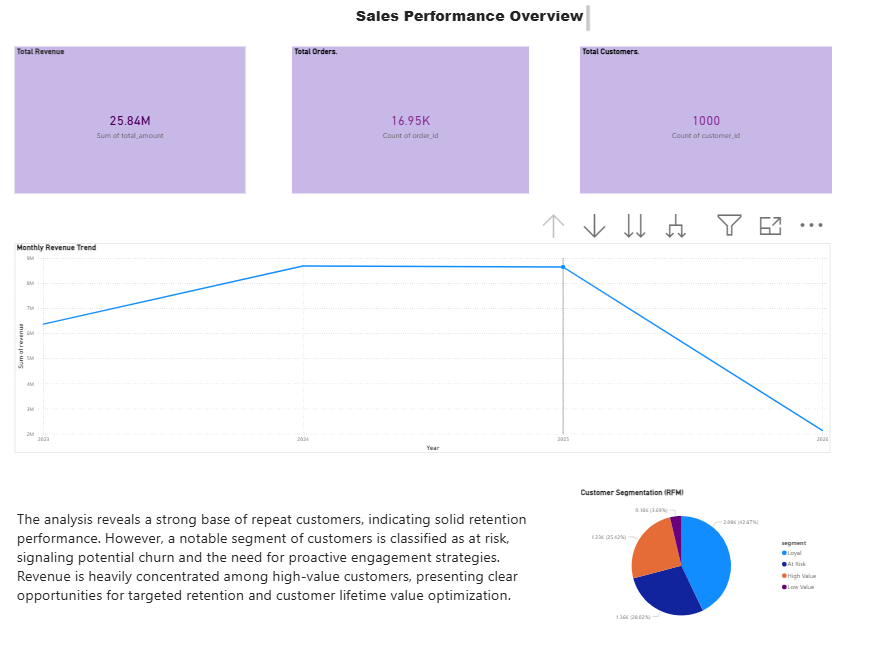

What the dashboard file says about the page in this screenshot:
{"tool":"powerbi","page":{"name":"Sales Overview","canvas":[2000,1500],"ordinal":0},"visuals":[{"type":"card","title":"Total Revenue","fields":{"Values":["Sum(orders_clean.total_amount)"]},"box":[35,103.3,513.3,326.7],"z":0},{"type":"lineChart","title":"Monthly Revenue Trend","fields":{"Category":["monthly_revenue.month.Variation.Date Hierarchy.Year","monthly_revenue.month.Variation.Date Hierarchy.Quarter","monthly_revenue.month.Variation.Date Hierarchy.Month","monthly_revenue.month.Variation.Date Hierarchy.Day"],"Y":["Sum(monthly_revenue.revenue)"]},"box":[36.7,540,1813.3,466.7],"z":1000},{"type":"pieChart","title":"Customer Segmentation (RFM)","fields":{"Category":["rfm_segments.segment"],"Y":["CountNonNull(rfm_segments.customer_id)"]},"box":[1290,1082.5,542.5,327.5],"z":2000},{"type":"card","title":"Total Orders.","fields":{"Values":["CountNonNull(orders_clean.order_id)"]},"box":[651.7,103.3,526.7,326.7],"z":3000},{"type":"card","title":"Total Customers.","fields":{"Values":["Count(customers_clean.customer_id)"]},"box":[1291.7,103.3,560,326.7],"z":4000},{"type":"textbox","box":[36.7,1123.3,1190,246.7],"z":5000},{"type":"textbox","box":[790,6.7,530,70],"z":5001}]}

Visuals, with their boxes on the page's 2000x1500 design canvas (x1, y1, x2, y2). These are canvas units, not pixel positions in the 895x671 screenshot, which may show the page scaled, cropped or inside an application window:
"Total Revenue" card: bbox(35, 103, 548, 430)
"Monthly Revenue Trend" lineChart: bbox(37, 540, 1850, 1007)
"Customer Segmentation (RFM)" pieChart: bbox(1290, 1082, 1832, 1410)
"Total Orders." card: bbox(652, 103, 1178, 430)
"Total Customers." card: bbox(1292, 103, 1852, 430)
textbox: bbox(37, 1123, 1227, 1370)
textbox: bbox(790, 7, 1320, 77)
